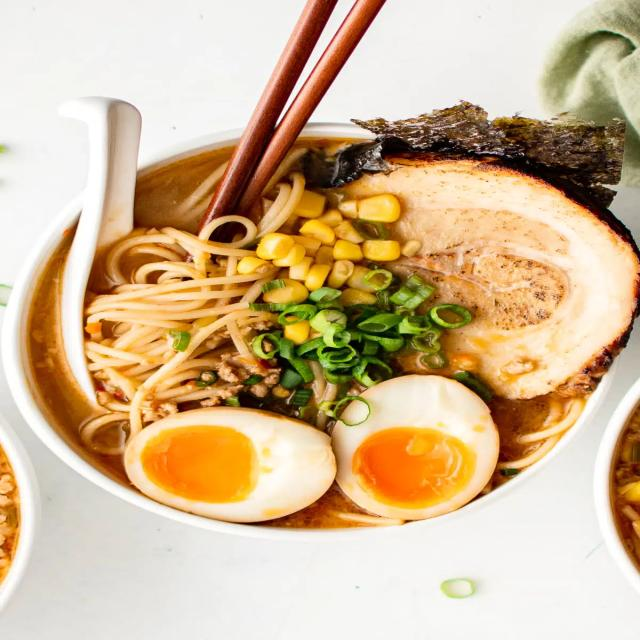carb: (93, 179, 314, 419)
meat: (336, 162, 640, 398), (127, 409, 343, 524), (332, 377, 501, 520)
vegetable: (336, 102, 625, 203), (262, 276, 471, 405), (240, 202, 419, 309)
